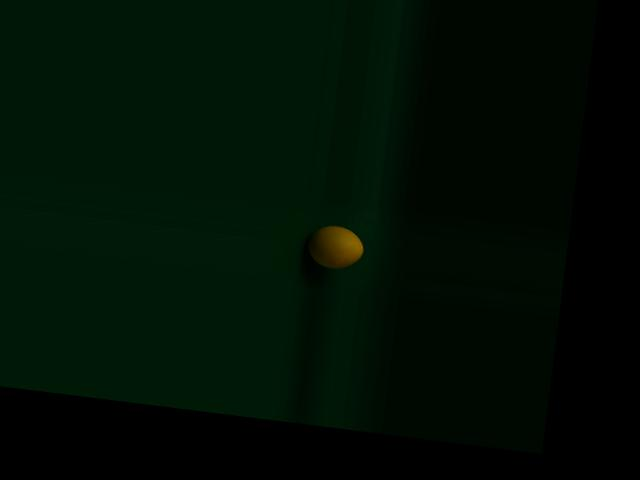egg: (305, 221, 366, 270)
